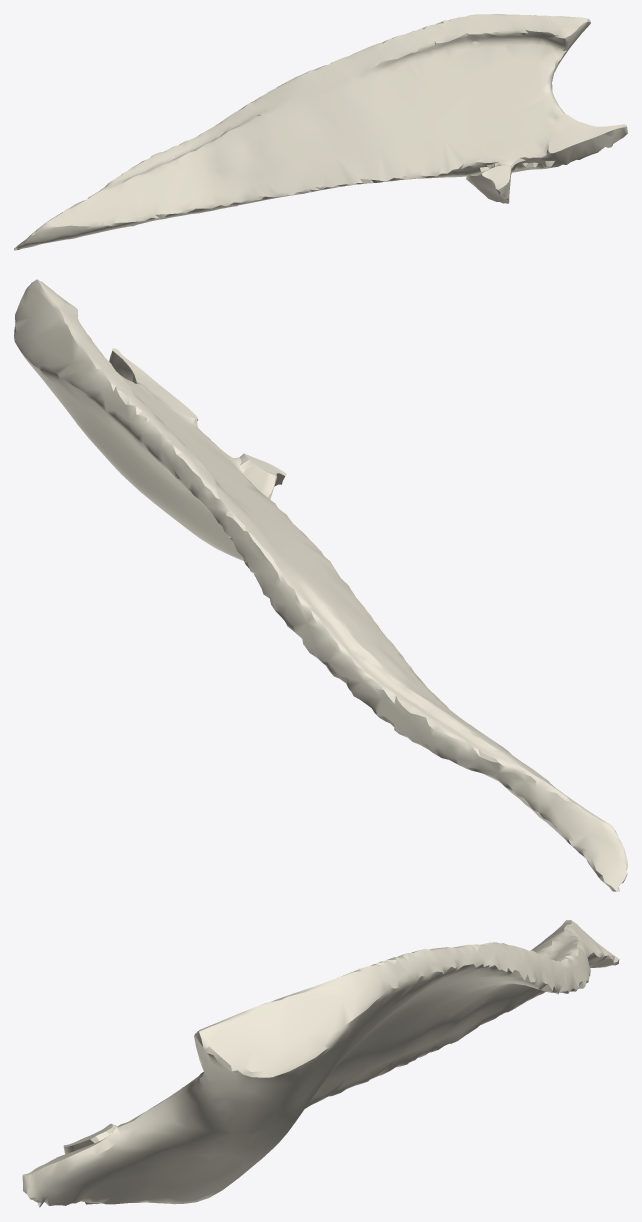
The model's file is fma80346_mm1542.glb.
3 renders of one model, top to bottom at view 1: azimuth 30°, elevation 25°; view 2: azimuth 150°, elevation 25°; view 3: azimuth 270°, elevation 25°, orthographic. The views are drawn at different scales.
Visible parts, largest first — view 1: FMA80346_MM1542; view 2: FMA80346_MM1542; view 3: FMA80346_MM1542.
Part boxes in pixels (bbox=[...]): FMA80346_MM1542: bbox=[14, 14, 627, 250]; FMA80346_MM1542: bbox=[14, 279, 627, 891]; FMA80346_MM1542: bbox=[22, 920, 619, 1207].
Bounding box in the file's own units: 0.0736 × 0.0288 × 0.04.
